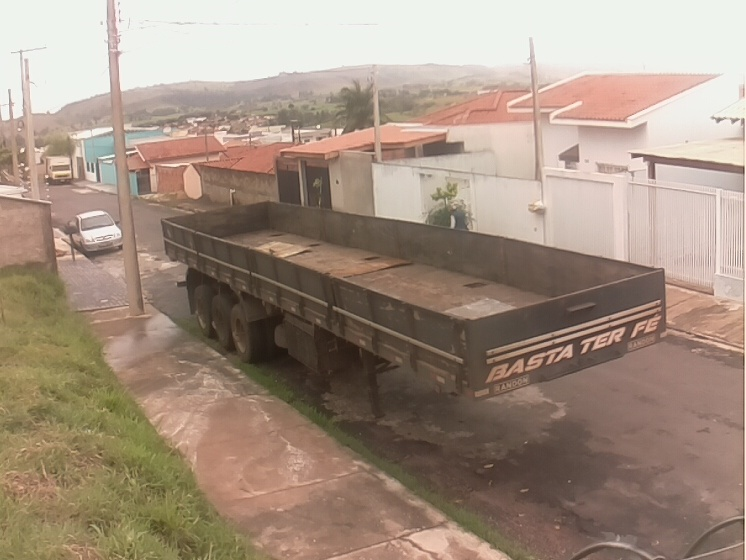person: (431, 199, 468, 232)
